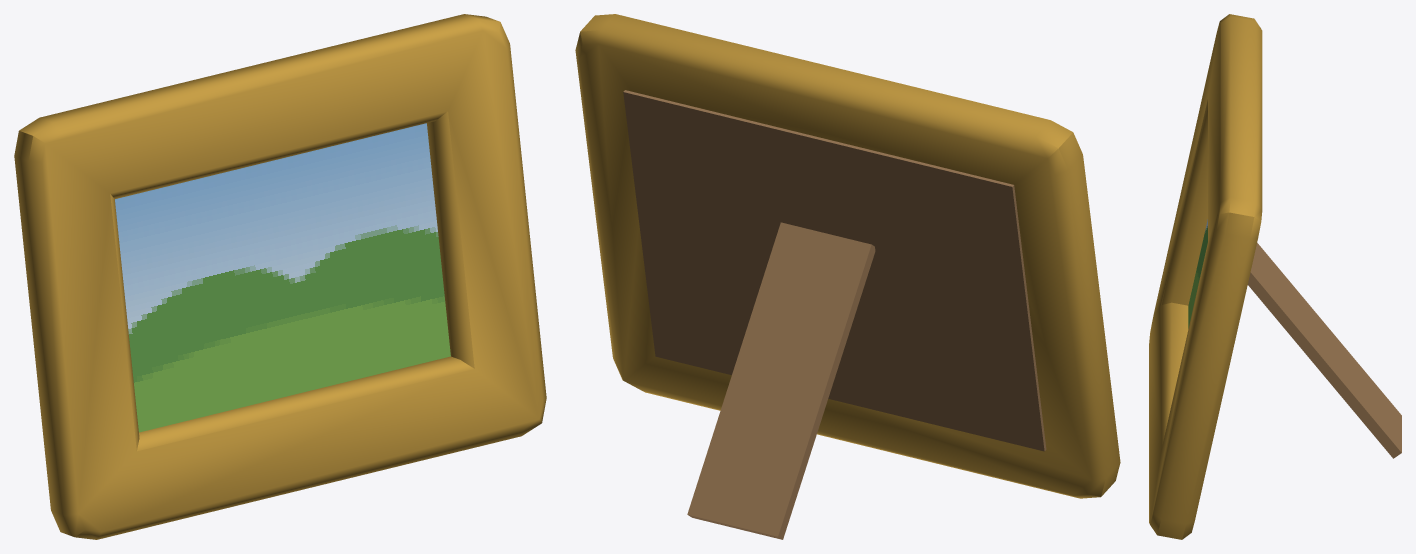
File: PictureFrameF01.glb
3 views of the same model, side by side, from view 1: azimuth 30°, elevation 25°; view 2: azimuth 150°, elevation 25°; view 3: azimuth 270°, elevation 25° (orthographic). The views are drawn at different scales.
Visible parts, largest first — view 1: Body_Gold, Body_Painting; view 2: Body_Cardboard, Body_Gold; view 3: Body_Gold, Body_Cardboard, Body_Painting.
Part boxes in pixels (x1,y1,x2,y2): Body_Gold: (14, 14, 546, 539); Body_Painting: (115, 123, 450, 432); Body_Cardboard: (623, 90, 1046, 539); Body_Gold: (575, 14, 1120, 498); Body_Gold: (1149, 14, 1262, 539); Body_Cardboard: (1247, 243, 1401, 458); Body_Painting: (1188, 219, 1207, 328).
Size of the model in its own units: 2.28 by 1.77 by 1.19.
Materials: 3 (1 with a texture image).
